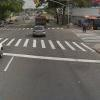cars: (32, 25, 46, 39)
